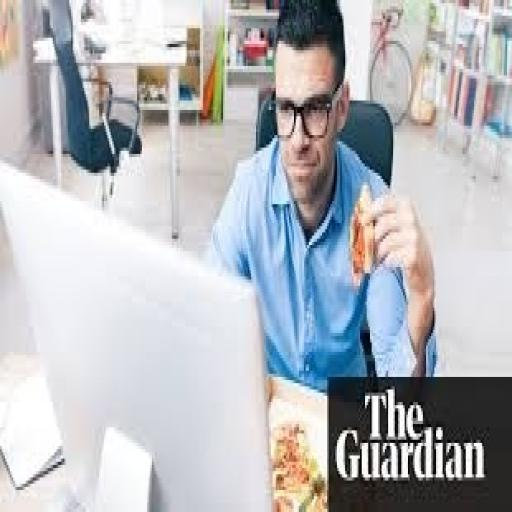eating: (208, 0, 437, 389)
